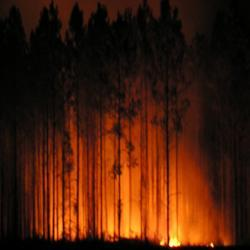fire: (101, 206, 144, 236), (55, 215, 81, 237), (161, 239, 181, 249)
